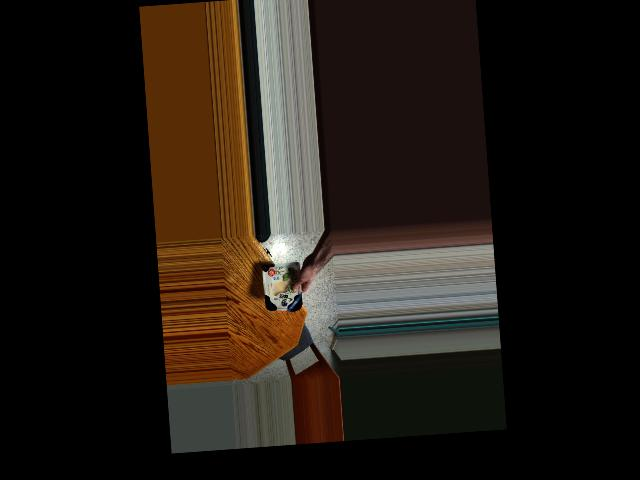cheese: (262, 258, 306, 313)
